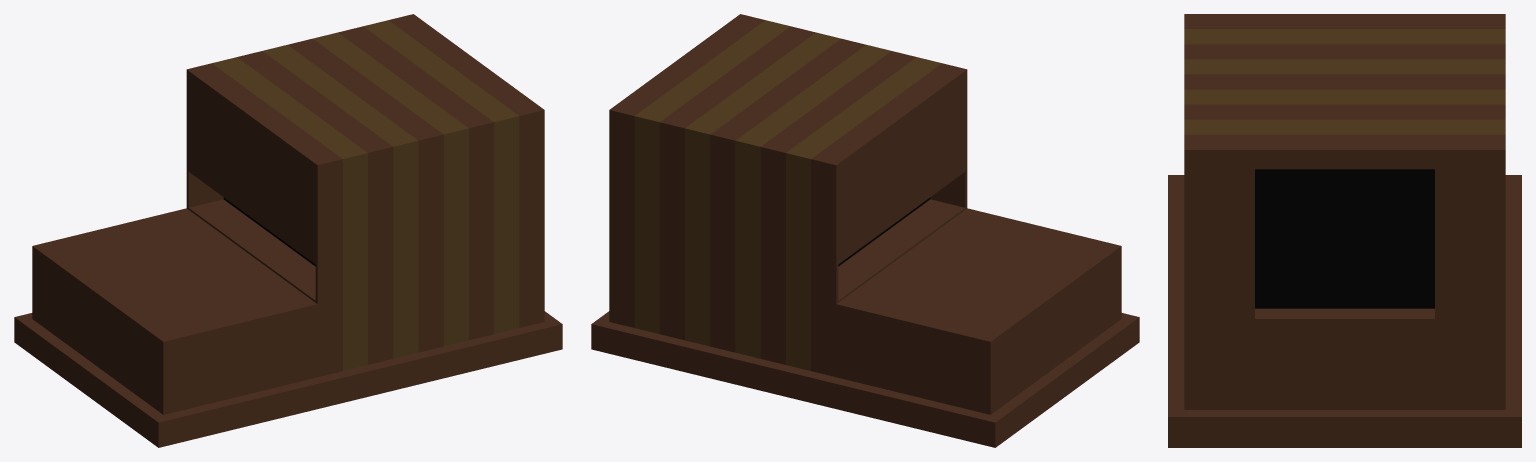
File: polemachine.fbx
3 renders of one model, left to right at view 1: azimuth 30°, elevation 25°; view 2: azimuth 150°, elevation 25°; view 3: azimuth 270°, elevation 25°, orthographic. The views are drawn at different scales.
Parts seen in each view (by area): view 1: polemaker; view 2: polemaker; view 3: polemaker.
Part boxes in pixels (x1,y1,x2,y2): polemaker: [14, 14, 562, 447]; polemaker: [591, 14, 1139, 447]; polemaker: [1168, 14, 1521, 447].
Bounding box in the file's own units: 356 × 200 × 220.
